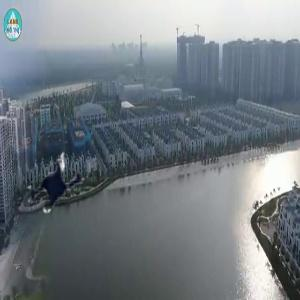drone: (9, 138, 100, 229)
